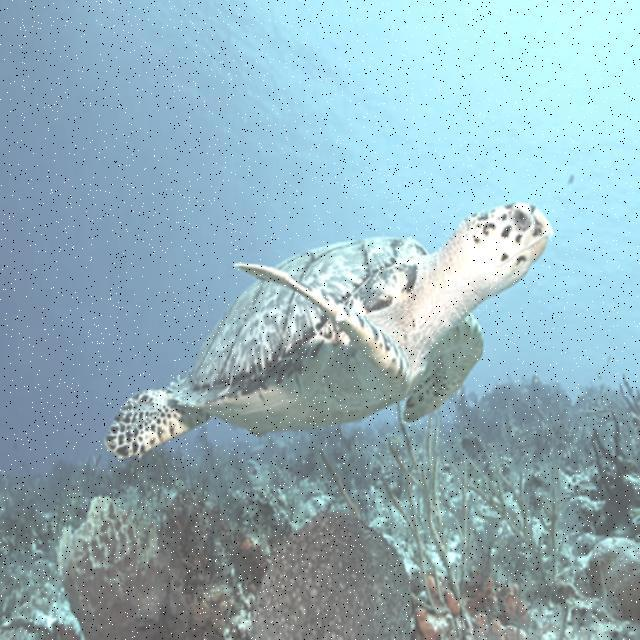tortoise: (108, 203, 550, 465)
